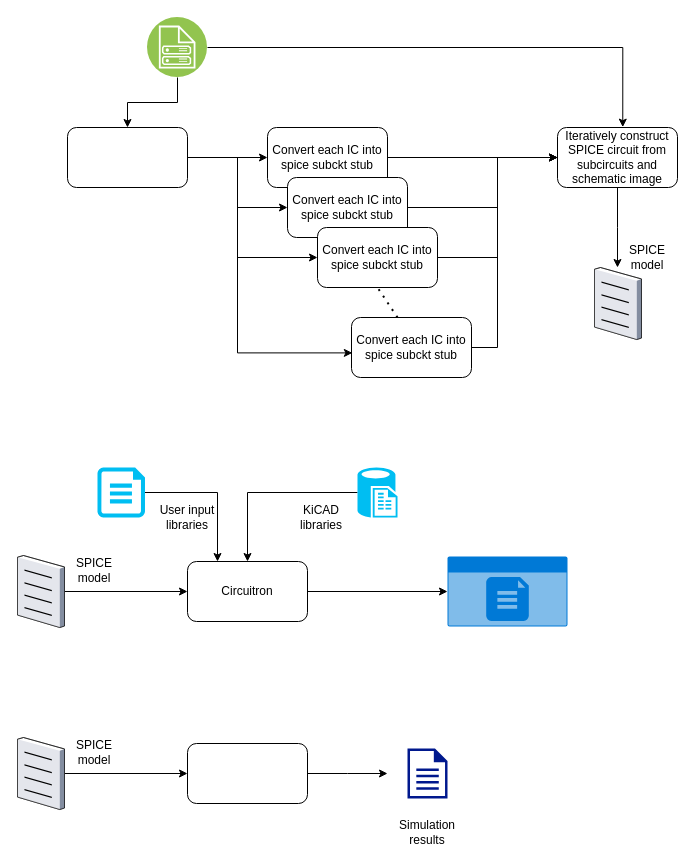
This 695x864 diagram has some shape labels left out. Here are the shapes that lost their labels. From the top down, the centre of each, then its label:
(127,157): Identify and segment all the ICs from the Schematic
(507,591): KiCAD schematic
(247,773): ngSPICE
